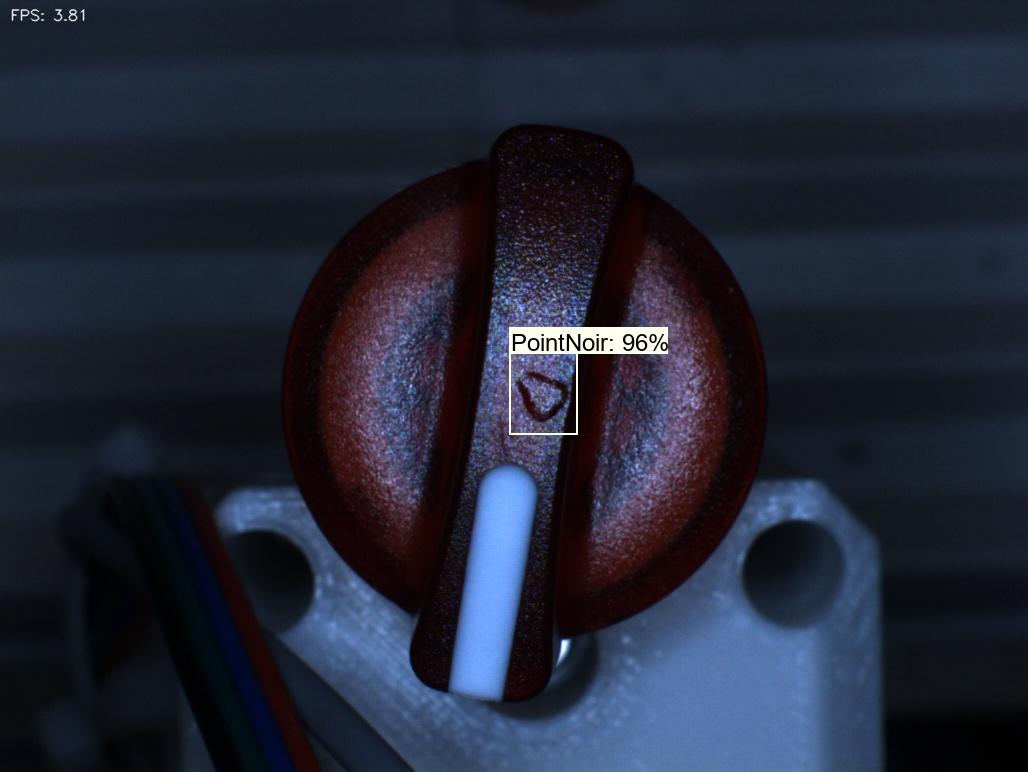Choc: (497, 361, 591, 442)
